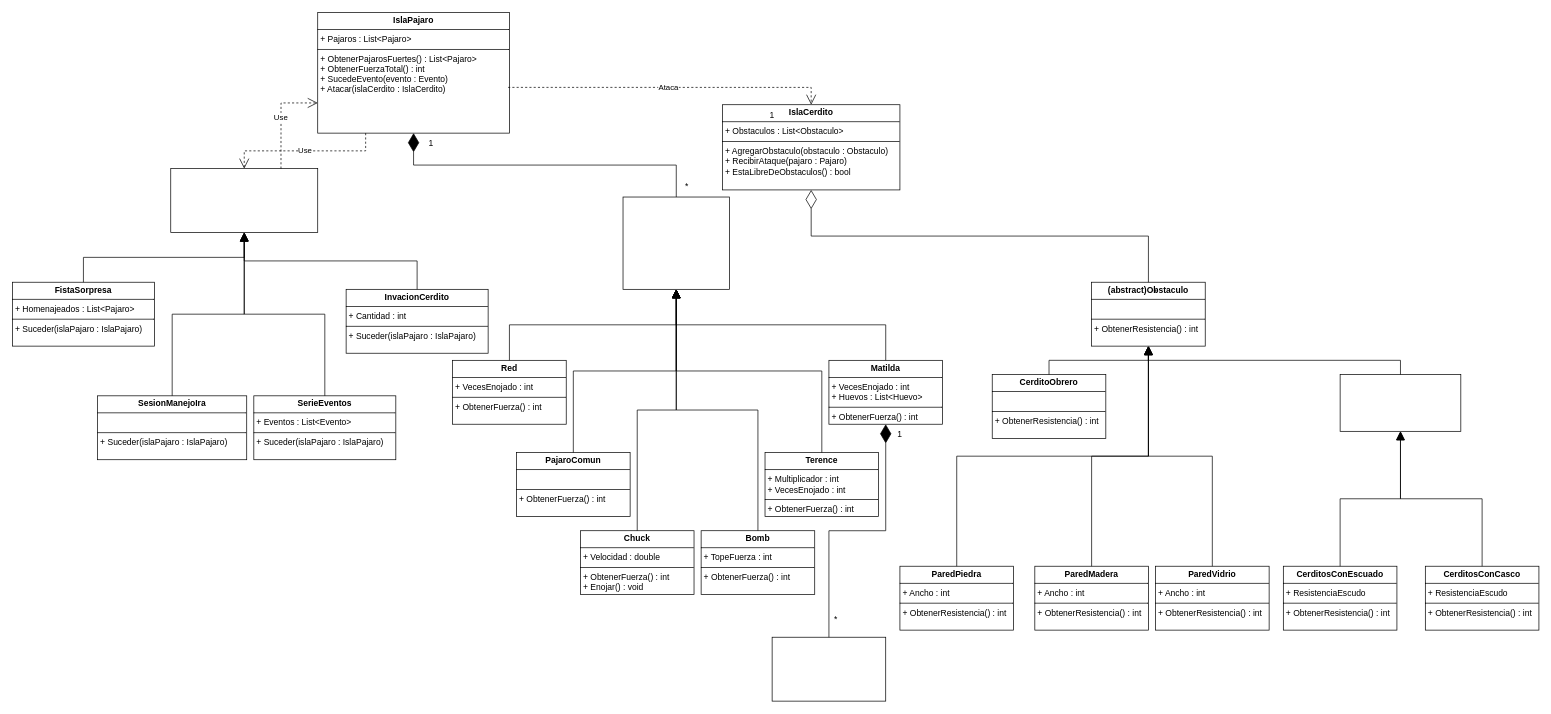
The diagram is 1551 pixels wide and 714 high, and some of its shapes have lost their labels. The centre of each missing label's shape, as x and y in pixels:
"(abstract)Evento + Suceder(islaPajaro : IslaPajaro)" goes at point 244,200.
"(abstract)Pajaro + IraInicial: int + ObtenerFuerza() : int + Enojar() : void" goes at point 676,242.
"CerditosArmados + ResistenciaArmado : int" goes at point 1400,402.
"Huevo + Peso : int + ObtenerFuerza() : int" goes at point 828,669.
